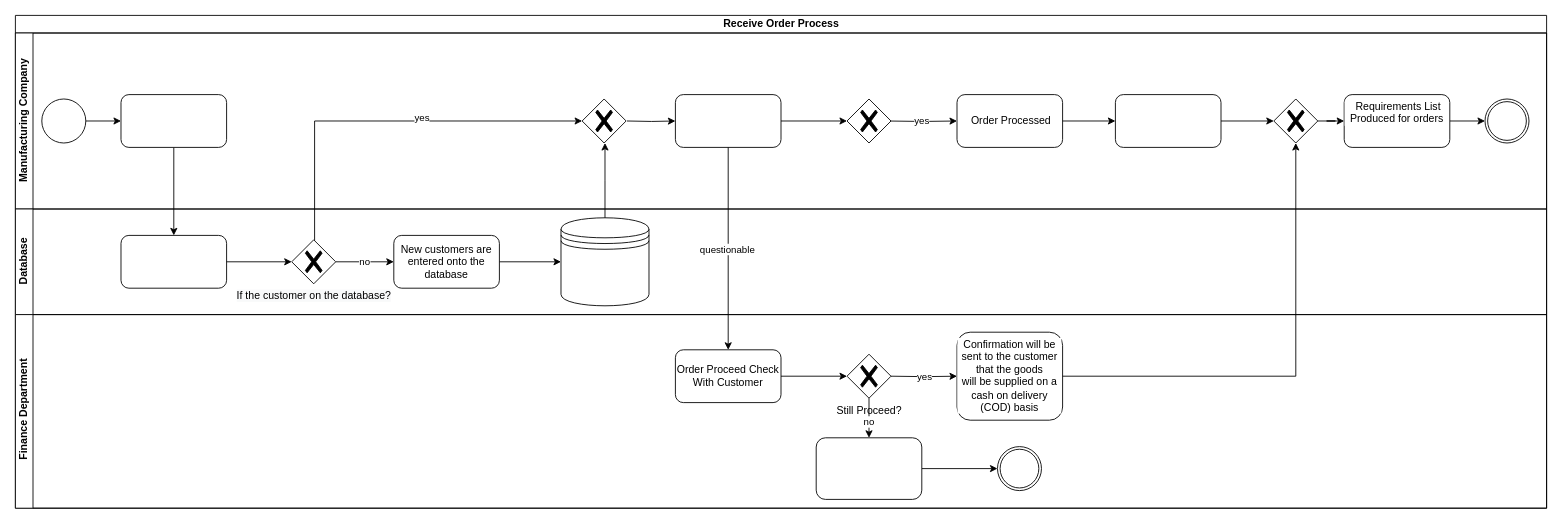
Some shapes in this 1562 by 524 pixel diagram are drawn without their labels. The shapes that lost their labels are listed below. From the top down, each one's centre as x and y in pixels, then its label:
pixel 173 120: Order Received and Checked
pixel 728 120: Credit Worthiness Check
pixel 868 120: Positive?
pixel 1168 120: Order confirmation is sent to the customer
pixel 173 261: Database Check
pixel 868 468: Message will be sent to the customer that the order cannot be fulfilled
